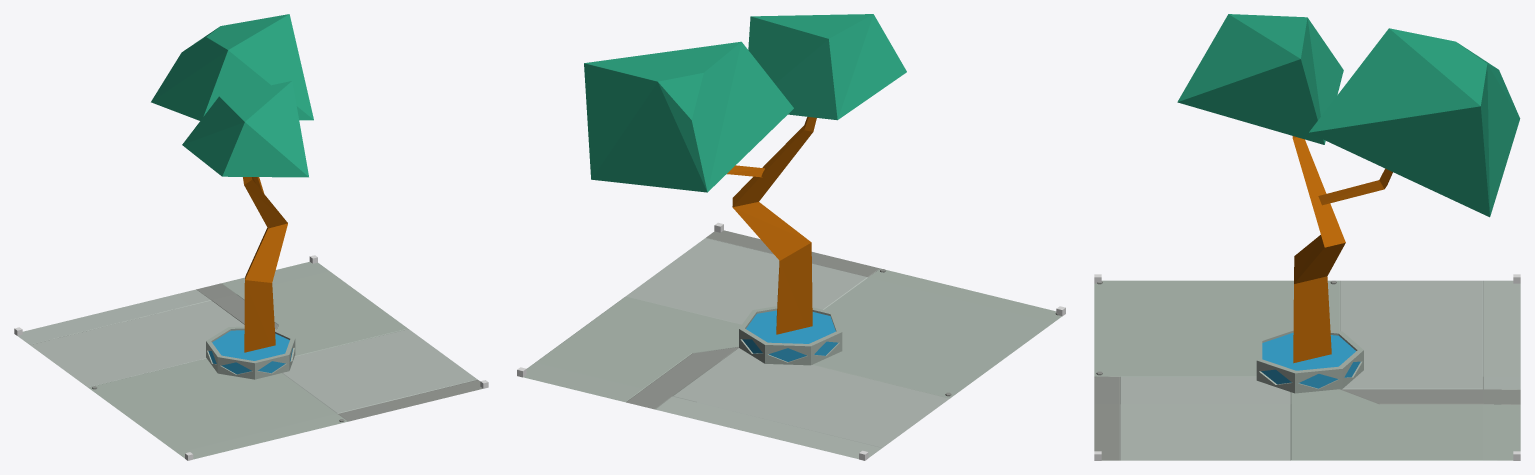
The picture shows the model from 3 angles, left to right: view 1: azimuth 30°, elevation 25°; view 2: azimuth 150°, elevation 25°; view 3: azimuth 270°, elevation 25°; orthographic projection. The views are drawn at different scales.
Parts seen in each view (by area): view 1: Scifi_Panel_04_Plaza014_group4.030, Tree06, Cylinder.000_Cylinder.004; view 2: Scifi_Panel_04_Plaza014_group4.030, Tree06, Cylinder.000_Cylinder.004; view 3: Scifi_Panel_04_Plaza014_group4.030, Tree06, Cylinder.000_Cylinder.004.
Part boxes in pixels (bbox=[...]): Scifi_Panel_04_Plaza014_group4.030: bbox=[18, 261, 482, 459]; Tree06: bbox=[151, 14, 313, 352]; Cylinder.000_Cylinder.004: bbox=[206, 326, 295, 379]; Scifi_Panel_04_Plaza014_group4.030: bbox=[523, 230, 1061, 459]; Tree06: bbox=[584, 14, 906, 334]; Cylinder.000_Cylinder.004: bbox=[739, 306, 842, 365]; Scifi_Panel_04_Plaza014_group4.030: bbox=[1094, 280, 1520, 460]; Tree06: bbox=[1177, 14, 1520, 363]; Cylinder.000_Cylinder.004: bbox=[1256, 327, 1363, 393].
Size of the model in its own units: 10 by 9.05 by 10.
